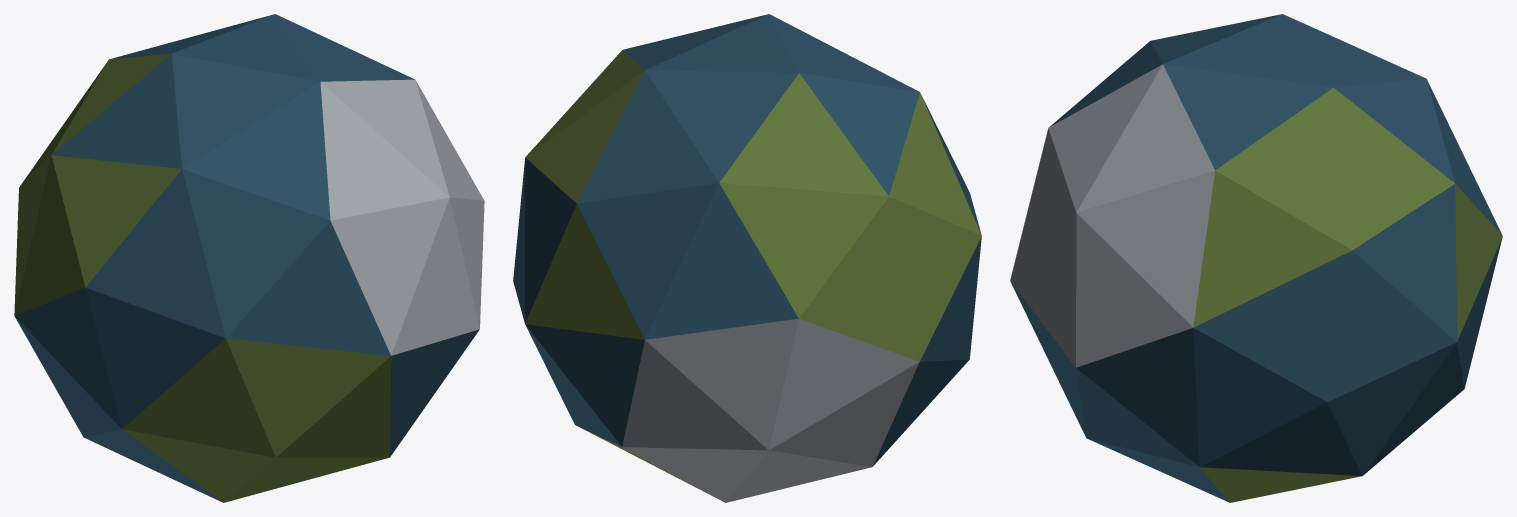
File: SM_Bld_Planetarium_01_ring01_Planet_Main.fbx
The picture shows the model from 3 angles, left to right: view 1: azimuth 30°, elevation 25°; view 2: azimuth 150°, elevation 25°; view 3: azimuth 270°, elevation 25°; orthographic projection.
Visible parts, largest first — view 1: SM_Bld_Planetarium_01_ring01_Planet_Main; view 2: SM_Bld_Planetarium_01_ring01_Planet_Main; view 3: SM_Bld_Planetarium_01_ring01_Planet_Main.
Part boxes in pixels (x1=…): SM_Bld_Planetarium_01_ring01_Planet_Main: x1=14, y1=14, x2=484, y2=502; SM_Bld_Planetarium_01_ring01_Planet_Main: x1=513, y1=14, x2=981, y2=502; SM_Bld_Planetarium_01_ring01_Planet_Main: x1=1010, y1=14, x2=1502, y2=502.
Bounding box in the file's own units: 42.49 × 44.13 × 42.03.
Materials: 2 (1 with a texture image).
